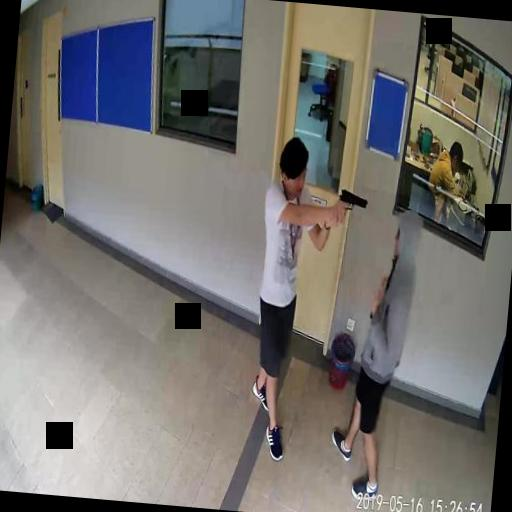Handgun: (336, 188, 367, 225)
